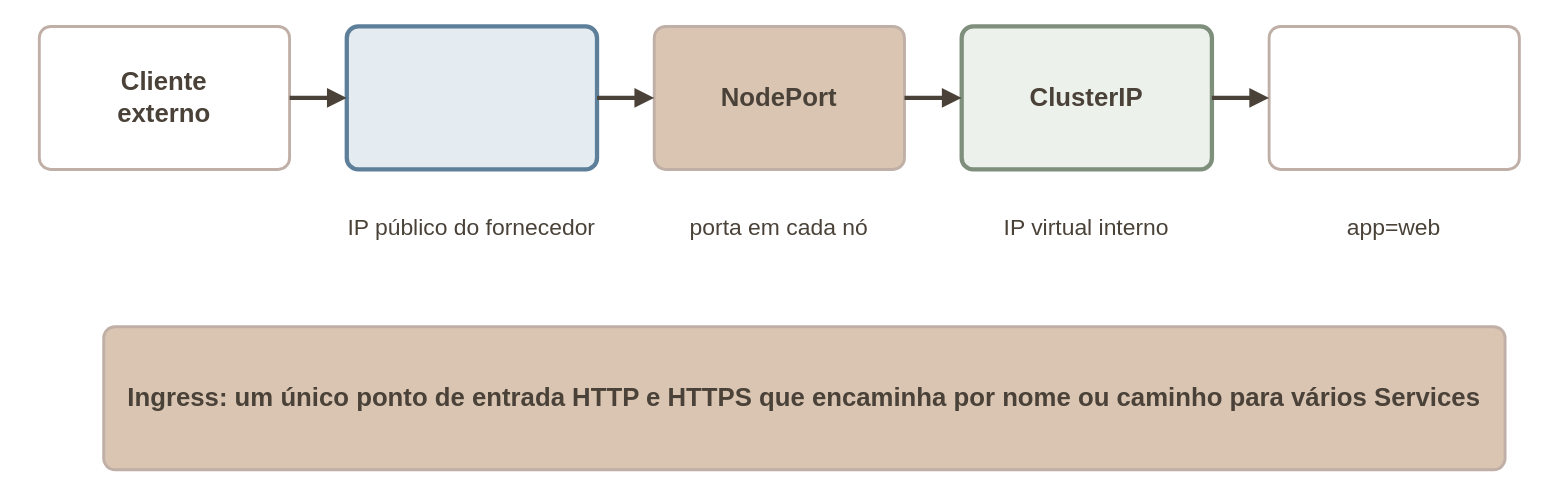
The diagram is 1557 pixels wide and 496 high, and some of its shapes have lost their labels. Each missing label, with the centre of its shape:
"LoadBalancer" goes at pixel 471 97.
"Pods" goes at pixel 1393 97.
